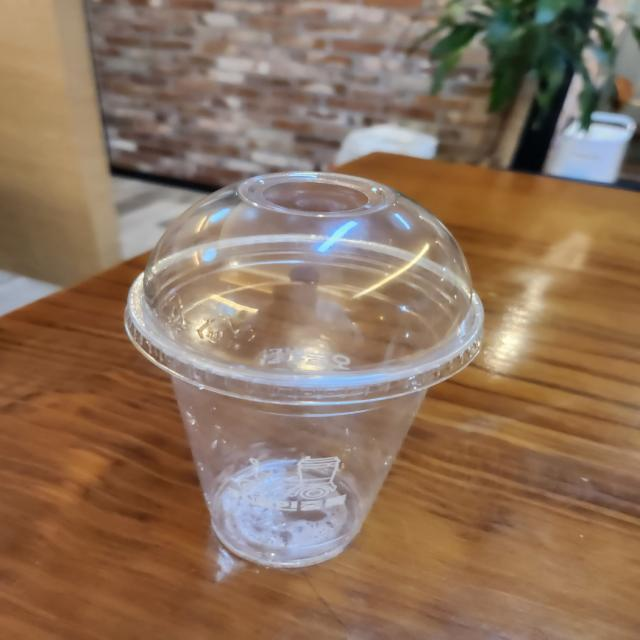plastic_cup_lid: (115, 156, 491, 408)
